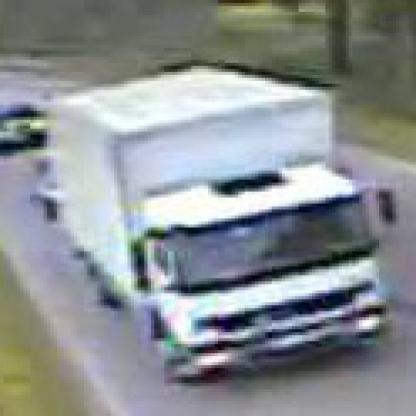truck: (45, 76, 390, 381)
